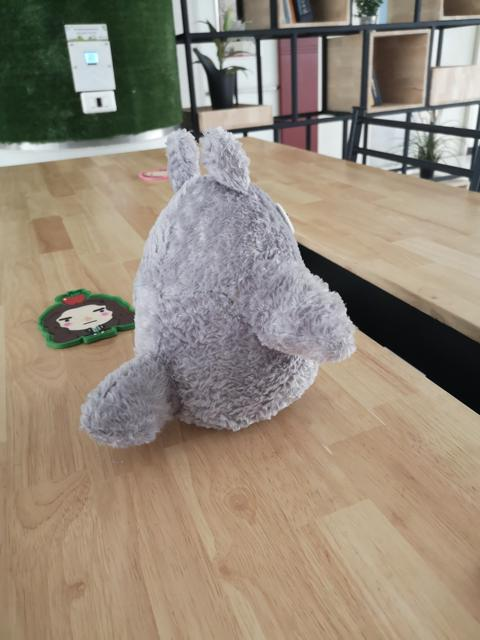totoro: (79, 121, 359, 451)
